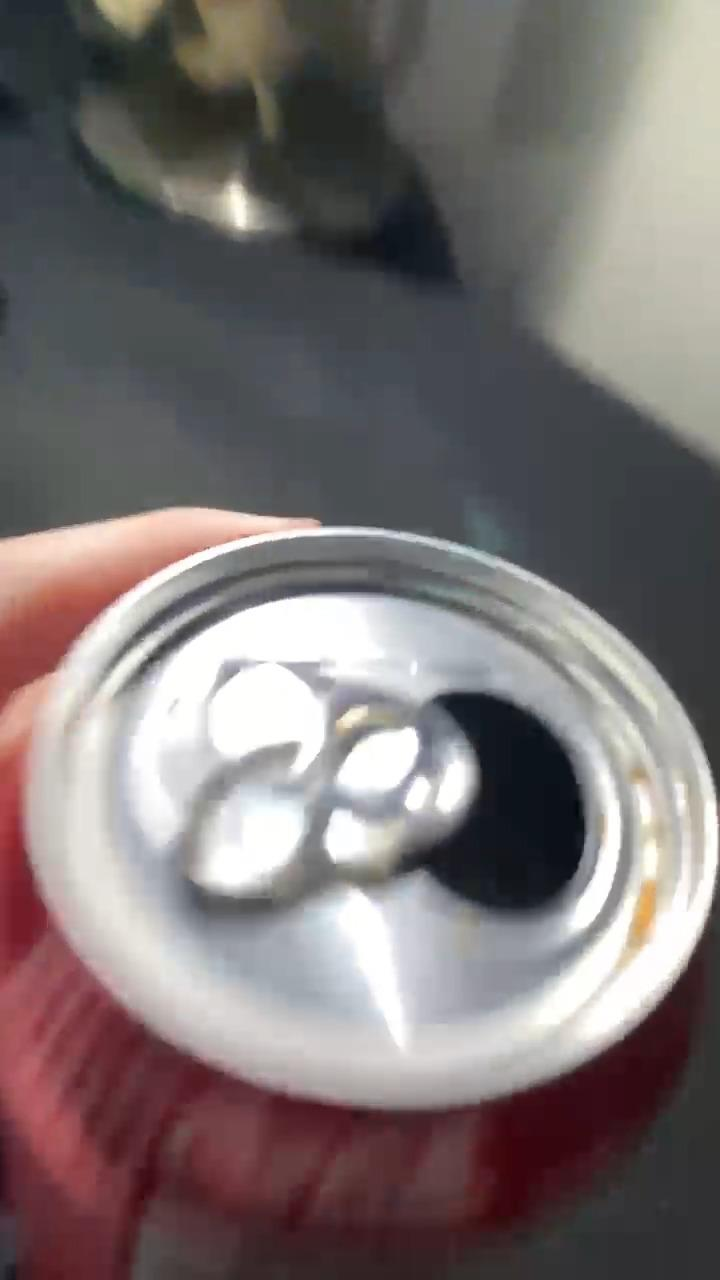coke: (8, 527, 712, 1266)
